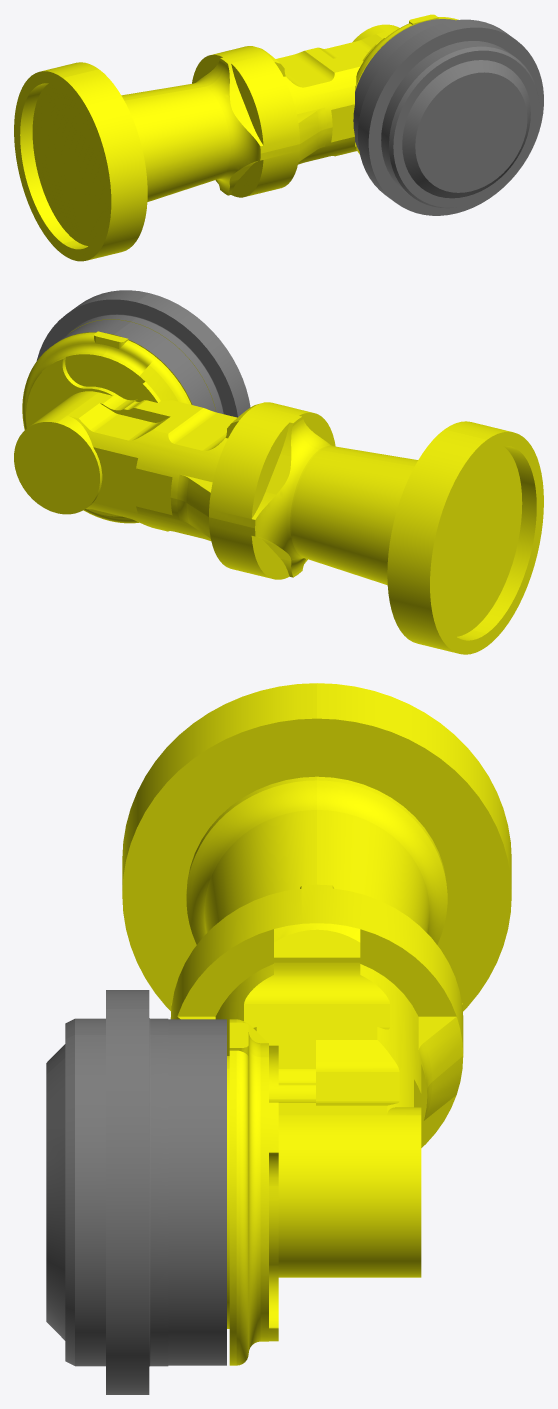
3 views of the same model, one above another, from view 1: azimuth 30°, elevation 25°; view 2: azimuth 150°, elevation 25°; view 3: azimuth 270°, elevation 25° (orthographic). The views are drawn at different scales.
Parts seen in each view (by area): view 1: Mesh_0; view 2: Mesh_0; view 3: Mesh_0.
Part boxes in pixels (<box>): Mesh_0: <box>14,14,543,261</box>; Mesh_0: <box>14,290,543,654</box>; Mesh_0: <box>46,683,511,1394</box>.
Bounding box in the file's own units: 0.4129 × 0.1943 × 0.169.
